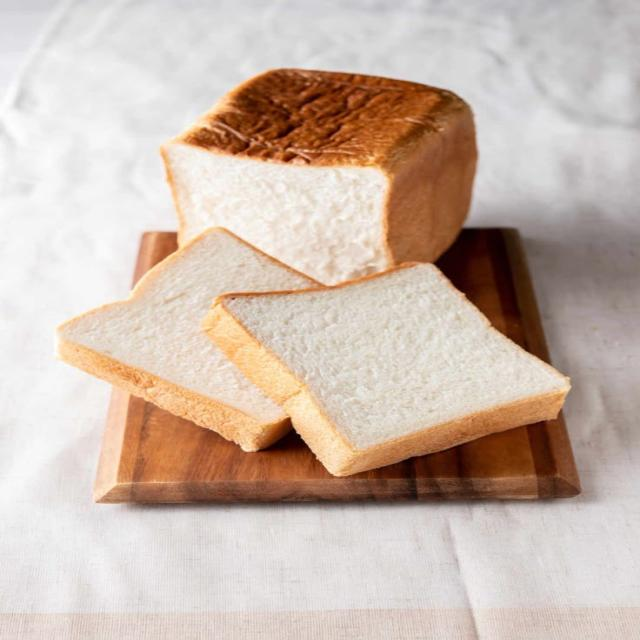sliced_bread: (203, 263, 570, 476), (57, 228, 321, 451)
